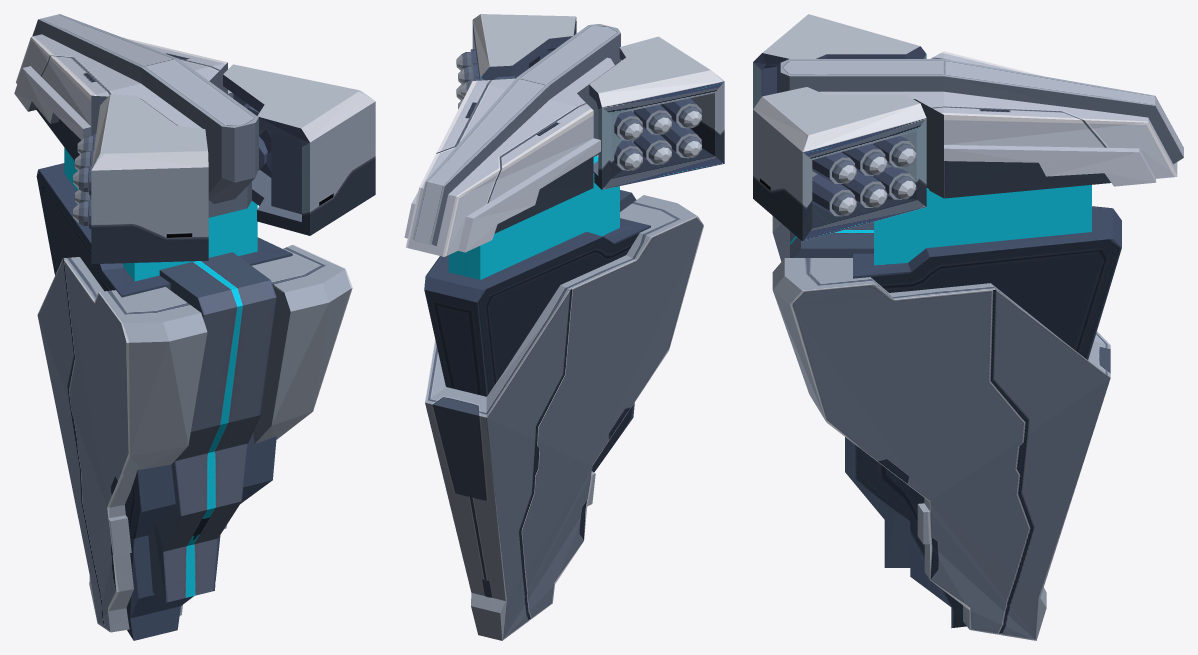
Rendered from Prop_fangyuta02.FBX.
The picture shows the model from 3 angles, left to right: view 1: azimuth 30°, elevation 25°; view 2: azimuth 150°, elevation 25°; view 3: azimuth 270°, elevation 25°; orthographic projection. The views are drawn at different scales.
Parts seen in each view (by area): view 1: Prop_fangyuta02; view 2: Prop_fangyuta02; view 3: Prop_fangyuta02.
Boxes of the visible parts, x1,y1,x2,y2 form: Prop_fangyuta02: (14,14,375,640); Prop_fangyuta02: (404,14,724,640); Prop_fangyuta02: (753,14,1183,640).
Size of the model in its own units: 7.19 by 14.32 by 9.86.
1 material, 1 textured.
